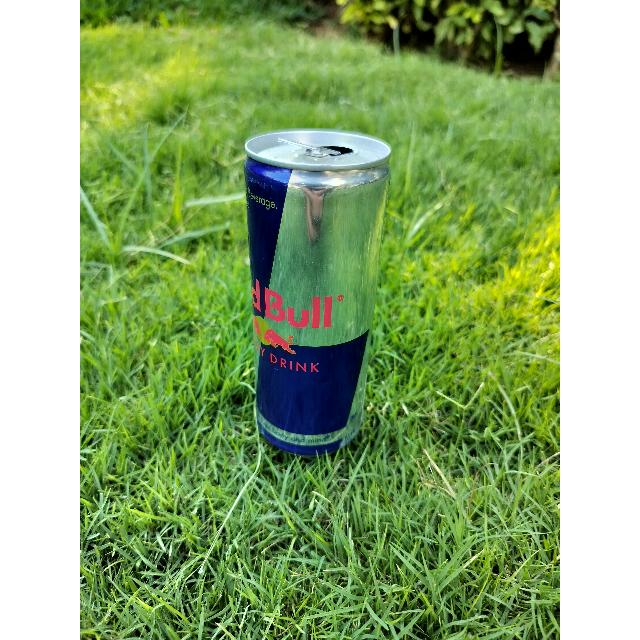Redbull: (241, 126, 393, 456)
